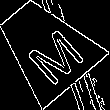M_NW: (11, 13, 81, 81)
